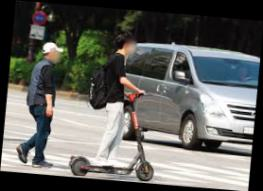nonhelmet: (65, 26, 169, 183)
